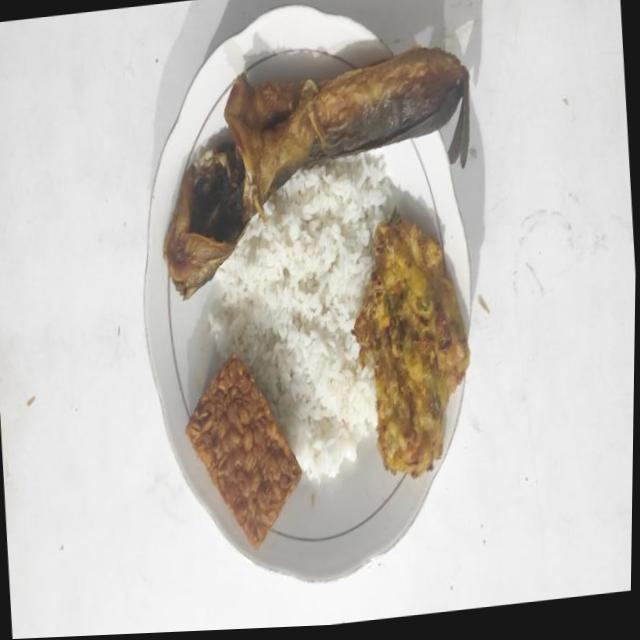nasi_putih: (208, 153, 390, 483)
tempe_goreng: (186, 353, 302, 549)
